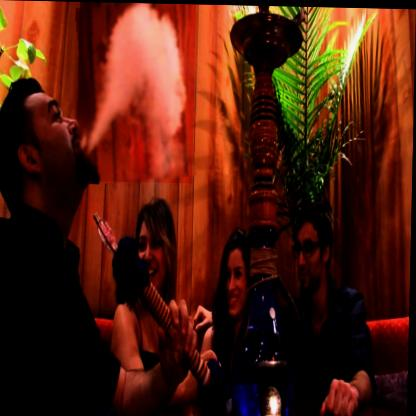smoke: (77, 1, 196, 182)
